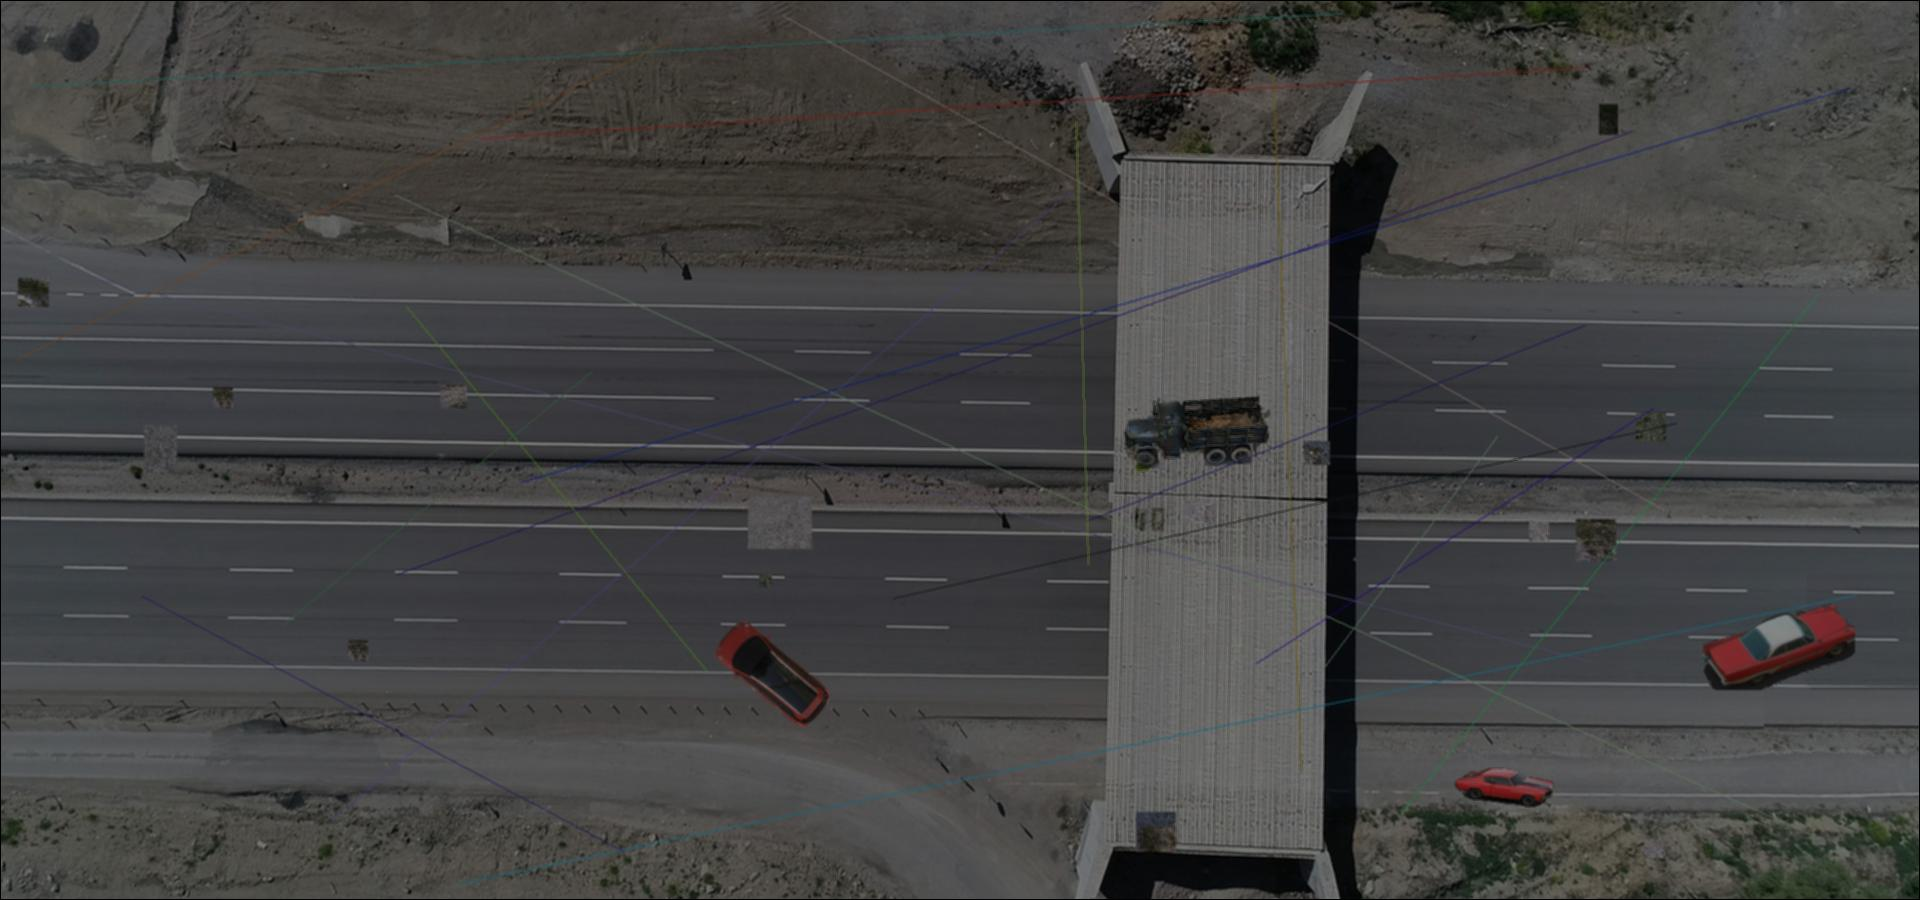arac: (710, 620, 834, 729), (1703, 604, 1855, 691), (1124, 393, 1270, 471), (1452, 767, 1556, 808)
